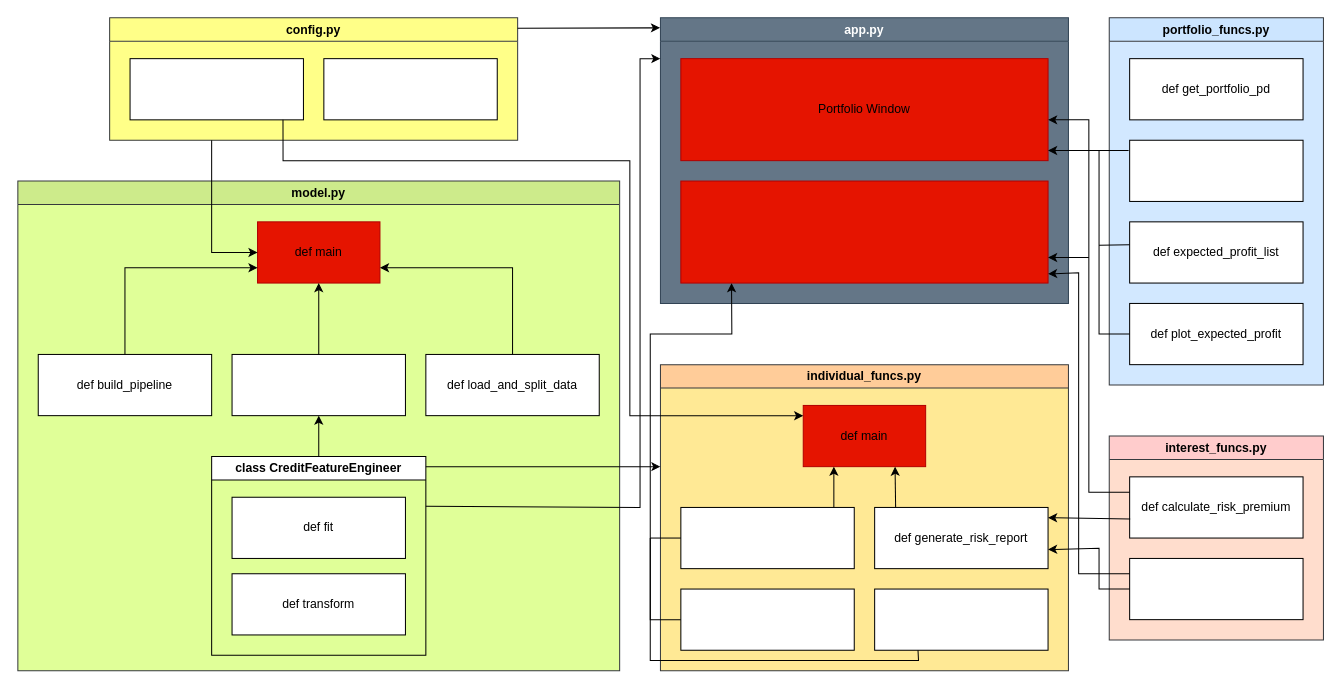
Image size: 1341x689. Some labels were removed from this diagram. The centre of each missing label's shape, as x and y in pixels:
"def evaluate_and_calibrate" goes at [318,384].
"def get_break_even_rate" goes at [1216,588].
"def get_data_path" goes at [410,89].
"def get_individual_expected_profit" goes at [961,619].
"def get_individual_prediction" goes at [767,537].
"def get_model_path" goes at [216,89].
"def get_shap_explanation" goes at [767,619].
"def portfolio_max _profit_and_threshold" goes at [1216,170].
"Individual Window" goes at [864,231].
